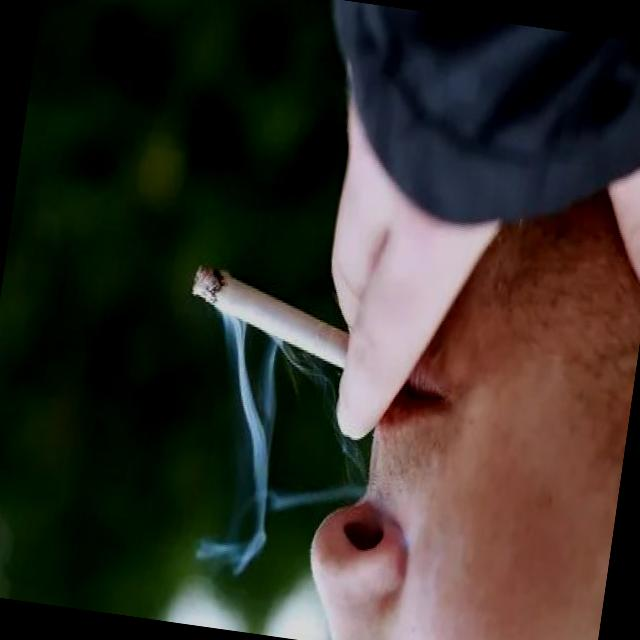smoke: (180, 258, 368, 380)
